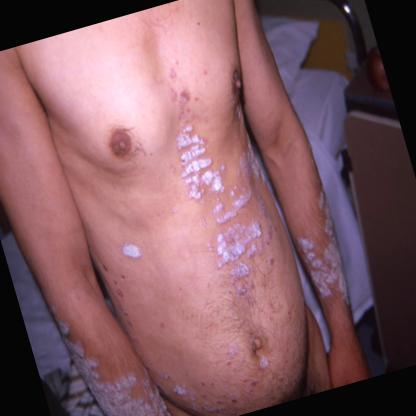Psoriasis: (50, 282, 175, 416), (300, 182, 366, 306), (164, 114, 226, 208), (204, 214, 266, 266), (204, 184, 263, 229), (116, 232, 151, 268), (292, 230, 317, 258)
